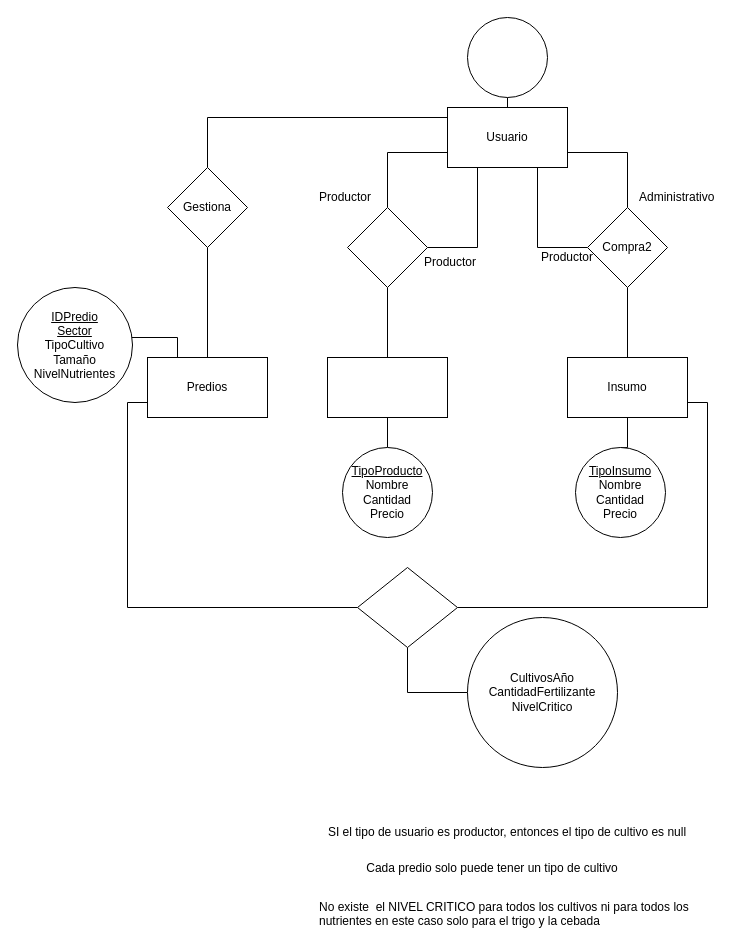
Some shapes in this 745 by 947 pixel diagram are drawn without their labels. Here are the shapes that lost their labels. From the top down, the centre of each, then its label:
At [507,57]: "Cedula Password TipoUsuario TipoCultivo".
At [387,247]: "compra1".
At [387,387]: "Producto".
At [407,607]: "Son usados por".
